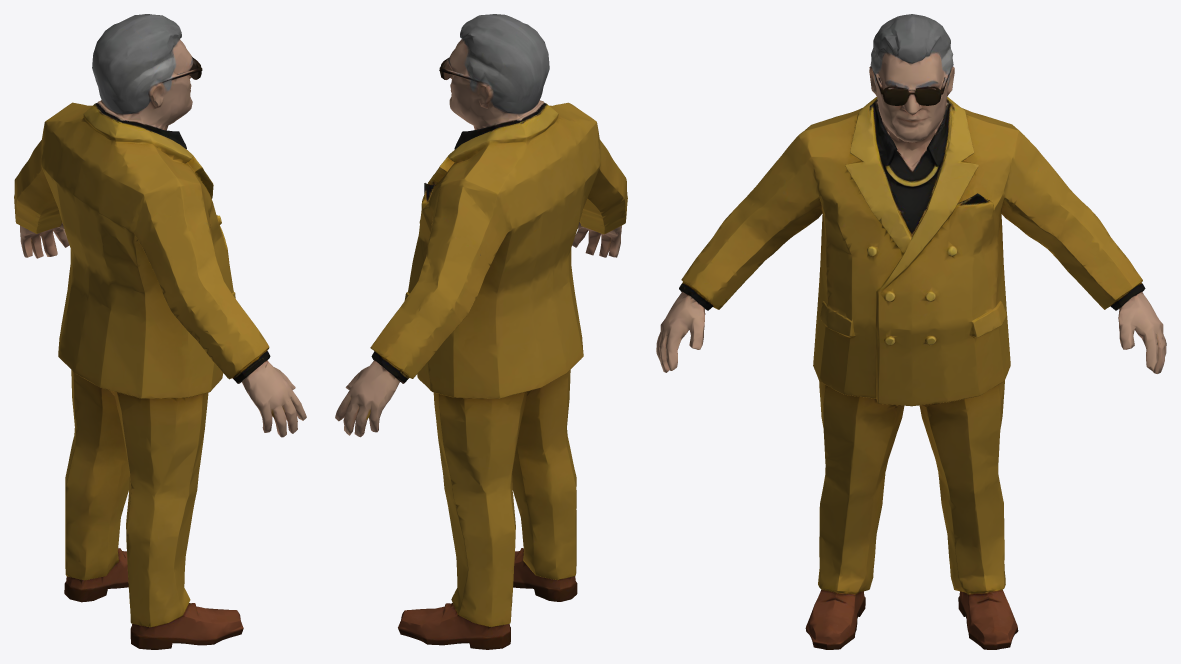
The model's file is boss.glb.
The picture shows the model from 3 angles, left to right: view 1: azimuth 30°, elevation 25°; view 2: azimuth 150°, elevation 25°; view 3: azimuth 270°, elevation 25°; orthographic projection.
Parts seen in each view (by area): view 1: tripo_node_1c839d49-22f5-45e4-b94e-ea76991981b6; view 2: tripo_node_1c839d49-22f5-45e4-b94e-ea76991981b6; view 3: tripo_node_1c839d49-22f5-45e4-b94e-ea76991981b6.
Part boxes in pixels (left/top/right/bottom): tripo_node_1c839d49-22f5-45e4-b94e-ea76991981b6: left=14, top=14, right=306, bottom=649; tripo_node_1c839d49-22f5-45e4-b94e-ea76991981b6: left=335, top=14, right=627, bottom=649; tripo_node_1c839d49-22f5-45e4-b94e-ea76991981b6: left=656, top=14, right=1166, bottom=649.
Size of the model in its own units: 0.4521 by 1.8 by 1.38.
Materials: 1 (1 with a texture image).
